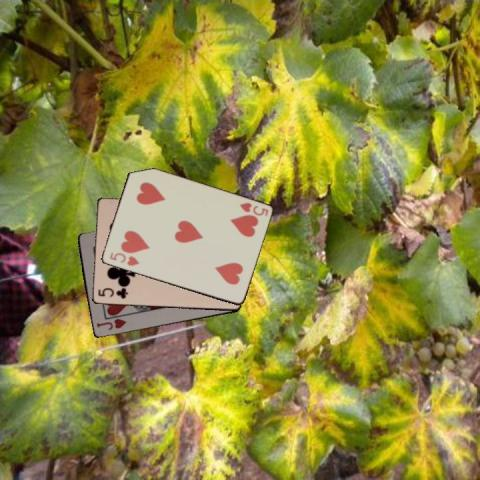5c: (95, 286, 129, 300)
5h: (236, 199, 269, 218), (106, 250, 140, 268)
Jh: (93, 316, 128, 331)
